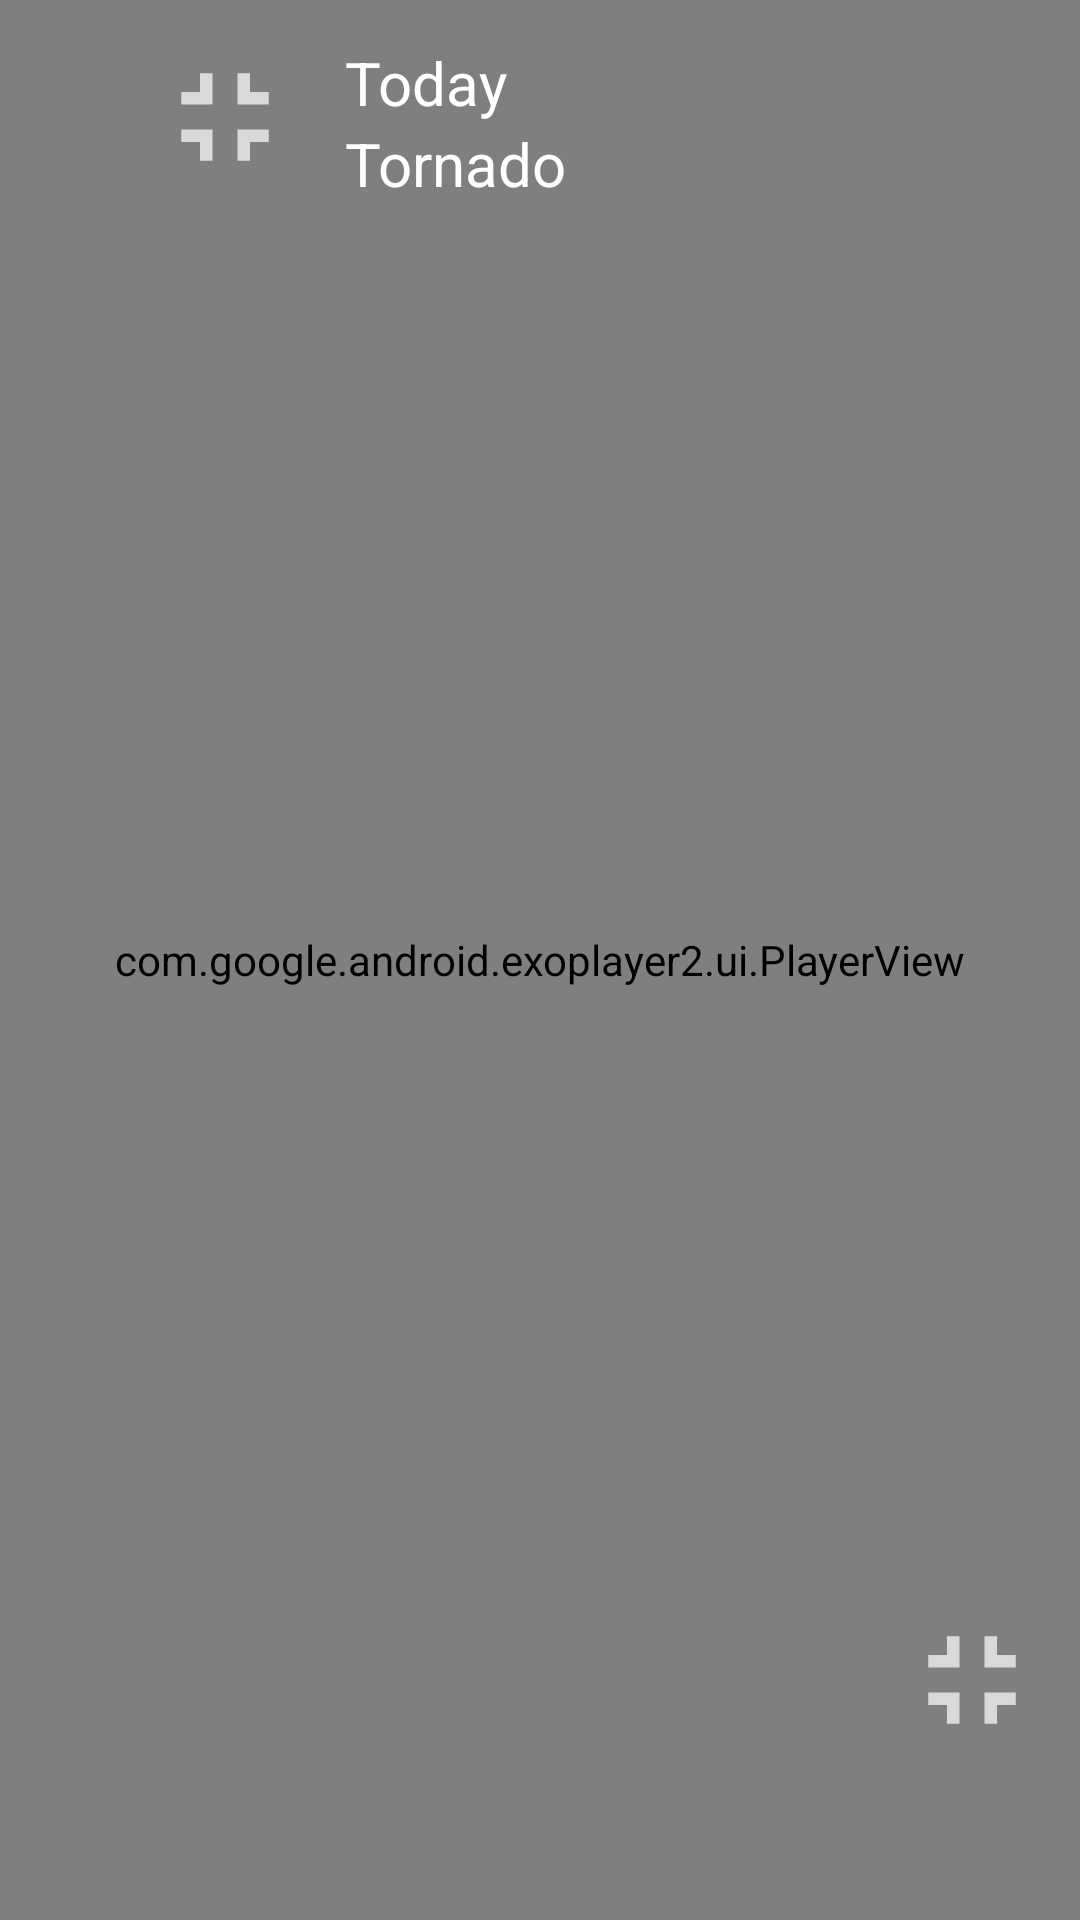

Icons on this 1080*1920 Android screen, each with its box as (x1, y1, x2, y2):
fullscreen close: (181, 73, 269, 161), (928, 1636, 1016, 1724)
